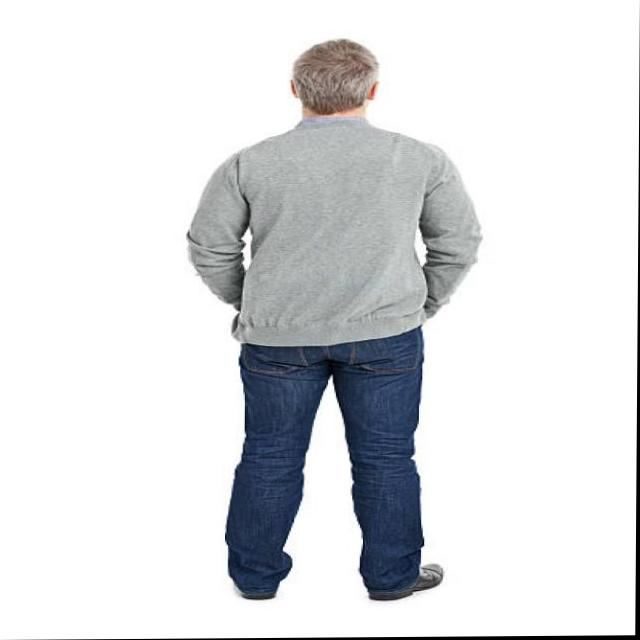no helmet: (274, 29, 418, 147)
